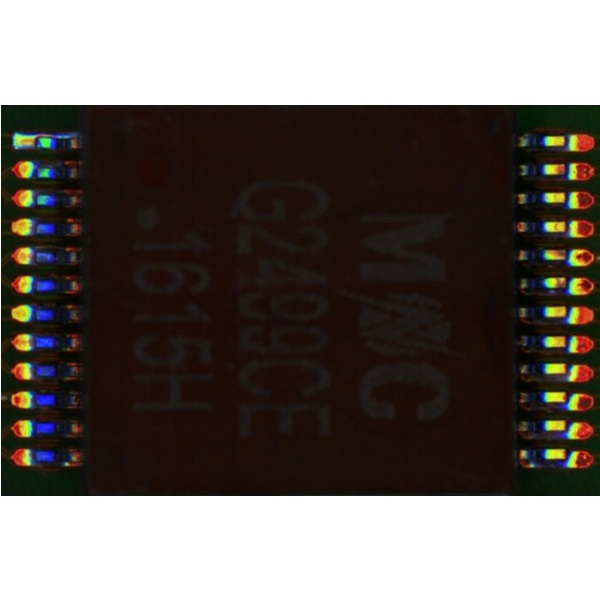Bad_podu: (39, 133, 77, 138)
Bad_qiaojiao: (24, 136, 46, 146)
